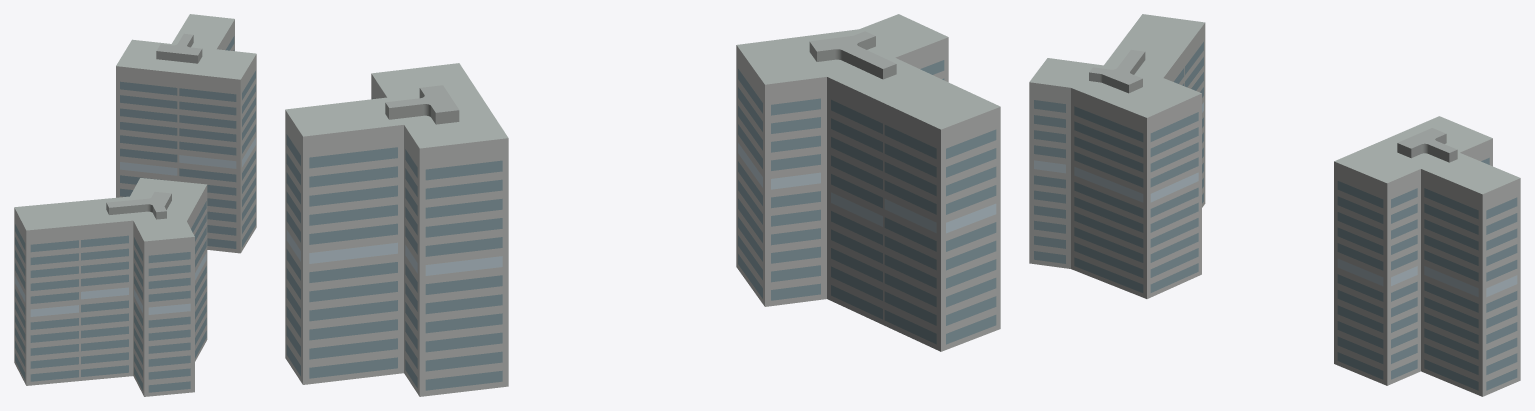
The model's file is apt-a15603009.glb.
3 renders of one model, left to right at view 1: azimuth 30°, elevation 25°; view 2: azimuth 150°, elevation 25°; view 3: azimuth 270°, elevation 25°, orthographic. The views are drawn at different scales.
Visible parts, largest first — view 1: apt-a15603009; view 2: apt-a15603009; view 3: apt-a15603009.
Part boxes in pixels (x1,y1,x2,y2): apt-a15603009: (14,14,256,396); apt-a15603009: (285,14,1000,396); apt-a15603009: (1029,14,1520,396).
Bounding box in the file's own units: 77.52 × 38 × 79.81.
